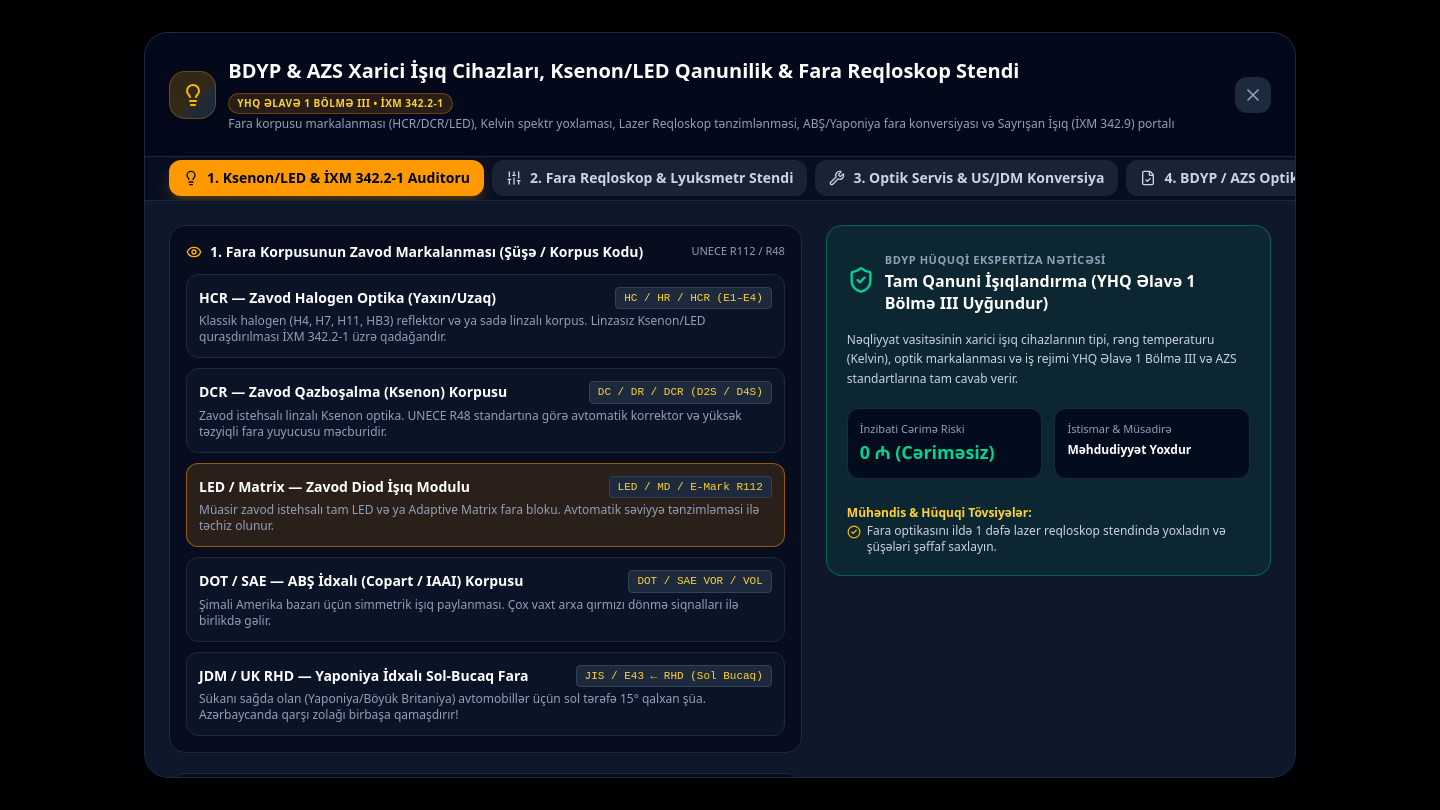
Test case: HeadlightComplianceModal component › switches to Regloscope & Luxmeter tab and evaluates JDM RHD blinding beam vs ECE
Click the button with test id "tab-headlight-regloscope" at (650, 178), box 492,160 -> 807,196
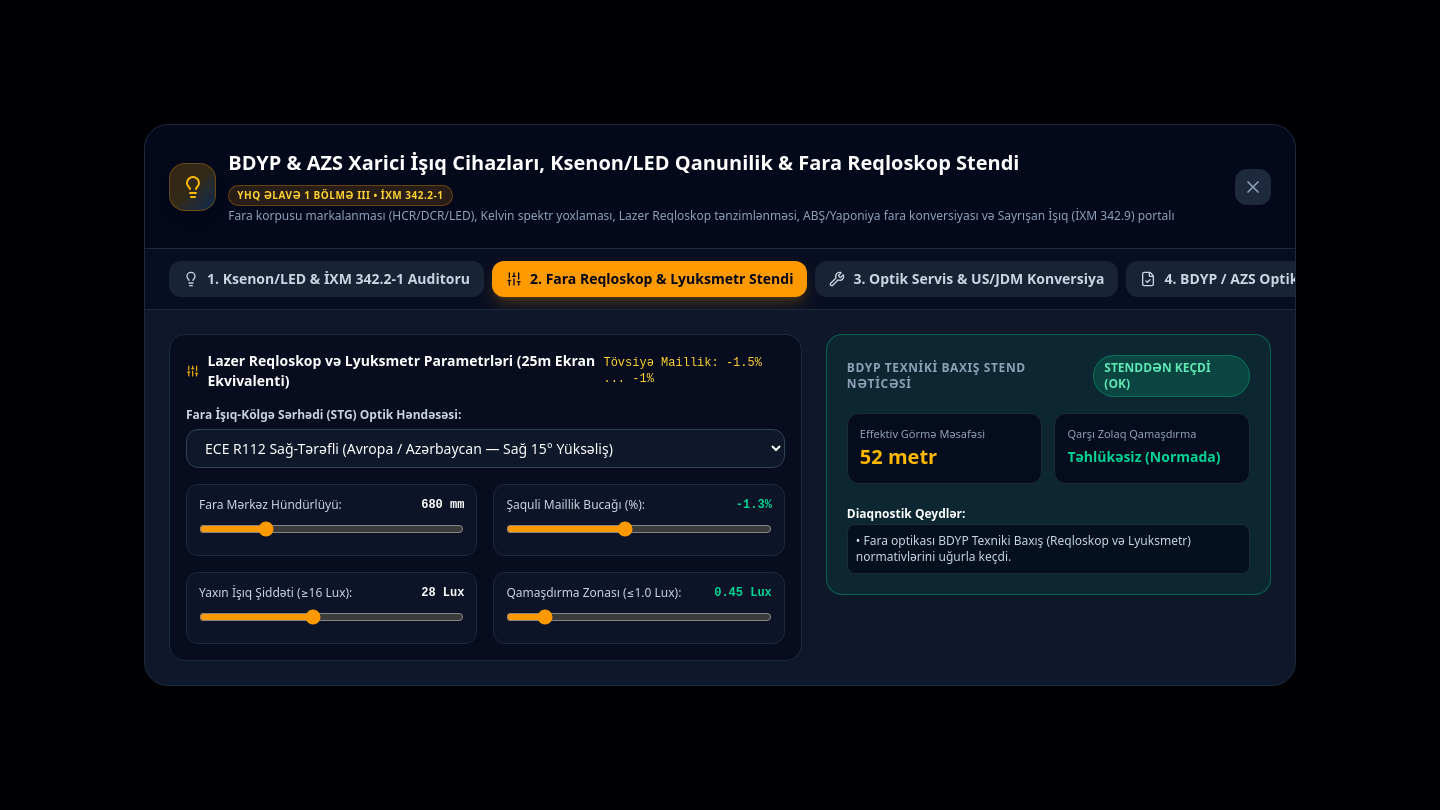
Check: the text with test id "regloscope-pass-badge" shows "STENDDƏN KEÇDİ", box 1104,359 -> 1211,392
// Change beam pattern to Japanese RHD left-traffic
Select "JDM / UK Sol-Tərəfli (Yaponiya RHD — Qarşı Zolağı Kor Edir!)" in the dropdown with test id "beam-pattern-select" at (485, 448), box 186,429 -> 785,468
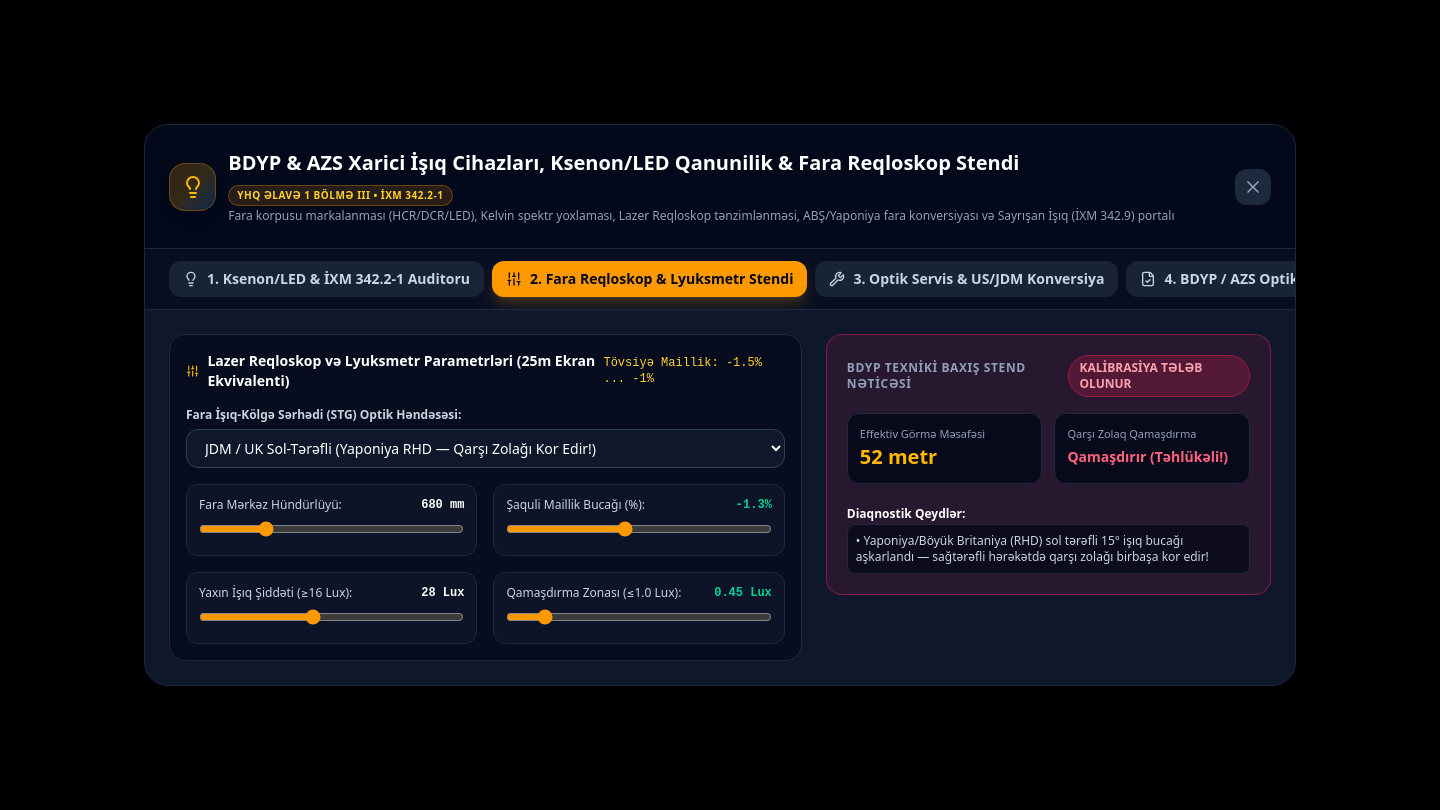
Check: the text with test id "regloscope-pass-badge" reads "KALİBRASİYA TƏLƏB OLUNUR", box 1080,359 -> 1202,392
